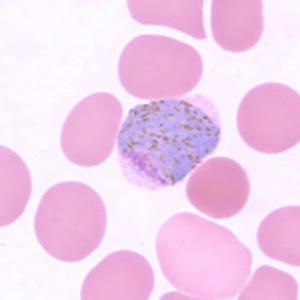Infected: (115, 93, 223, 190)
Uninfected: (155, 211, 252, 299), (35, 181, 107, 263), (118, 34, 204, 100), (59, 92, 126, 167), (236, 83, 300, 154), (186, 157, 251, 218), (81, 250, 154, 300), (208, 0, 265, 54), (255, 204, 300, 265)
